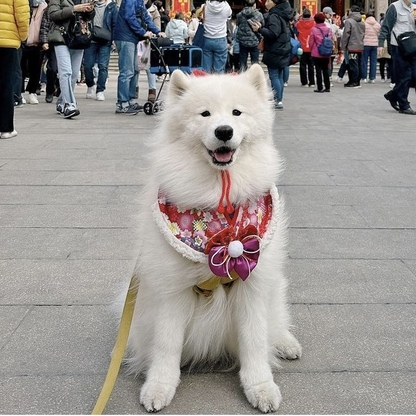samoyed: (110, 59, 305, 416)
